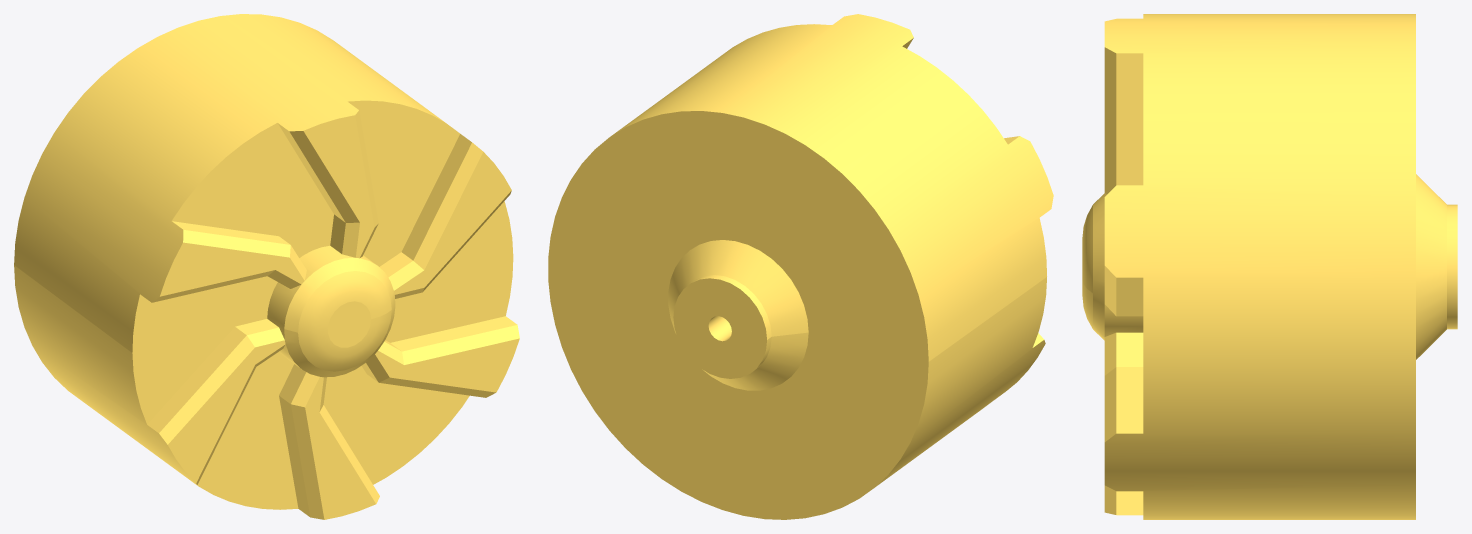
File: HubMotor.dae
The picture shows the model from 3 angles, left to right: view 1: azimuth 30°, elevation 25°; view 2: azimuth 150°, elevation 25°; view 3: azimuth 270°, elevation 25°; orthographic projection. The views are drawn at different scales.
Parts seen in each view (by area): view 1: HubMotorMesh; view 2: HubMotorMesh; view 3: HubMotorMesh.
Part boxes in pixels (bbox=[...]): HubMotorMesh: bbox=[14, 14, 519, 519]; HubMotorMesh: bbox=[548, 14, 1053, 519]; HubMotorMesh: bbox=[1082, 14, 1457, 519].
Bounding box in the file's own units: 0.13 × 0.0964 × 0.13.
